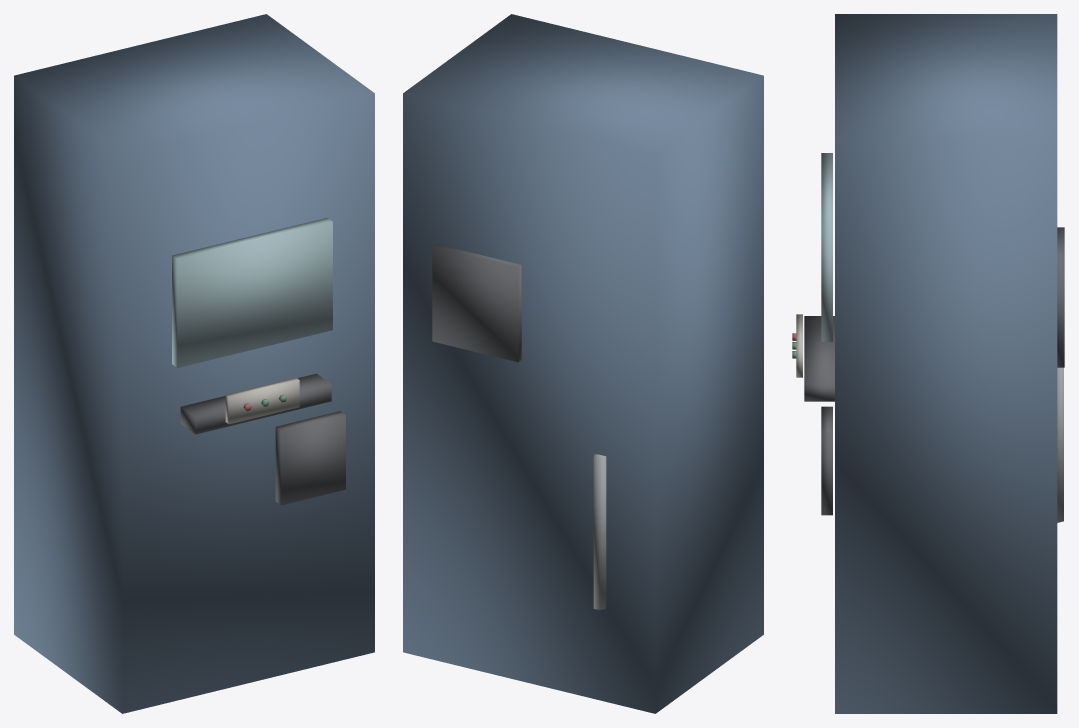
File: atm__service.glb
3 views of the same model, side by side, from view 1: azimuth 30°, elevation 25°; view 2: azimuth 150°, elevation 25°; view 3: azimuth 270°, elevation 25° (orthographic). The views are drawn at different scales.
Visible parts, largest first — view 1: world; view 2: world; view 3: world.
Part boxes in pixels (<box>): world: <box>14,14,374,713</box>; world: <box>403,14,763,713</box>; world: <box>792,14,1064,713</box>.
Bounding box in the file's own units: 0.78 × 1.65 × 0.71.
